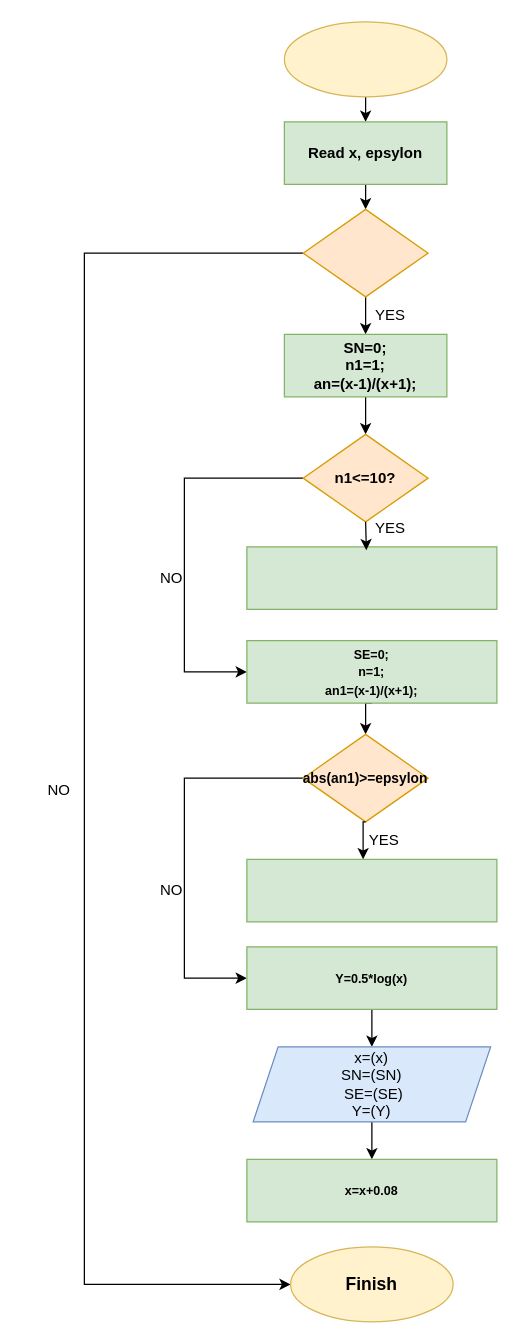
The diagram is 519 pixels wide and 1344 high, and some of its shapes have lost their labels. Each missing label, with the centre of its shape:
"an1=an1*((2*n+1)/(2*n+3))*pow(((x-1)/(x+1)),2); SE=SE+an1; n++;" goes at point 371,890.
"an=an*((2*n1+1)/(2*n1+3))*pow(((x-1)/(x+1)),2); SN=SN+an; n1++;" goes at point 371,577.
"Start" goes at point 365,59.
"x<1?" goes at point 365,252.
